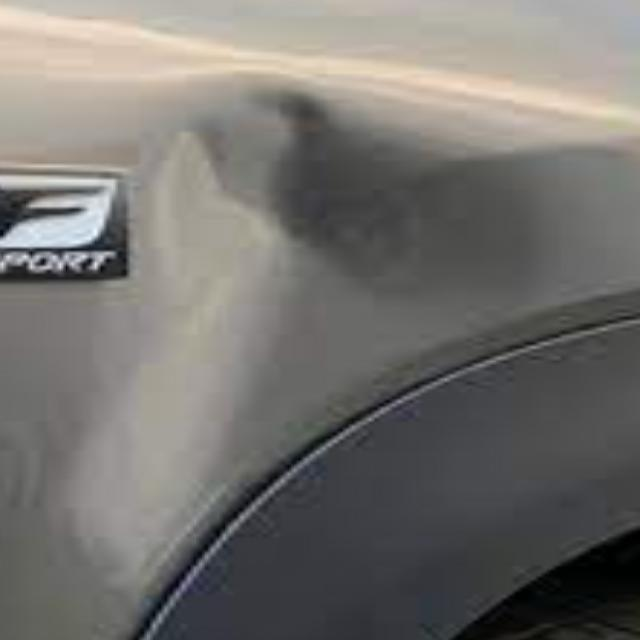dents: (85, 47, 576, 408)
